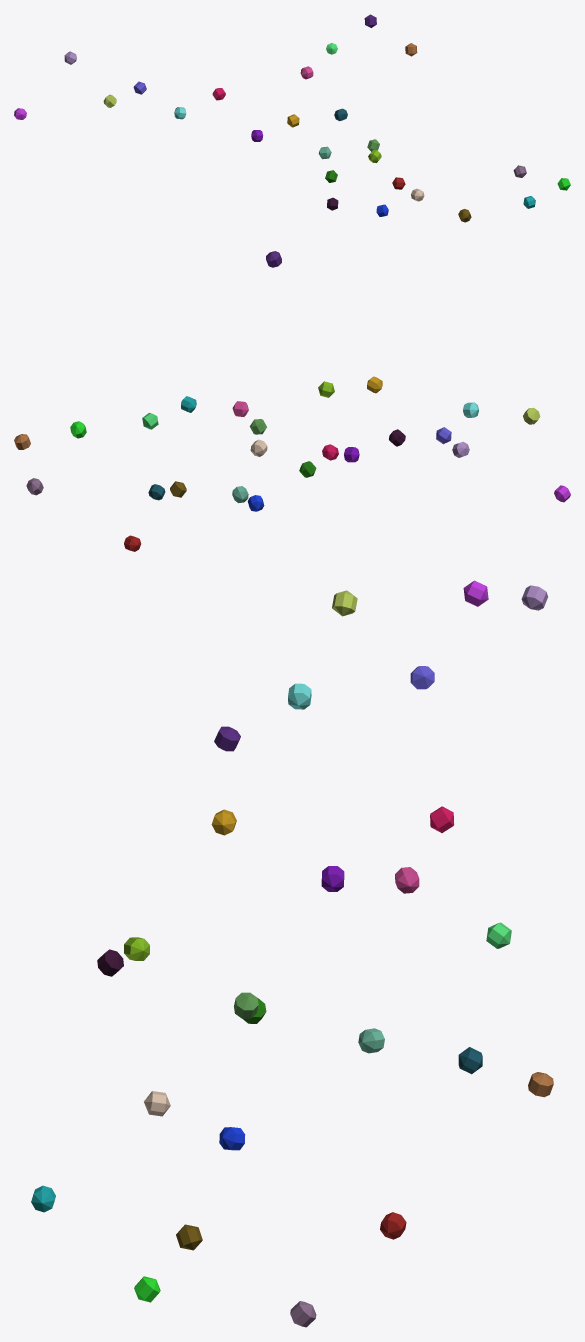
The model's file is fg-00010-bone.obj.
The picture shows the model from 3 angles, top to bottom: view 1: azimuth 30°, elevation 25°; view 2: azimuth 150°, elevation 25°; view 3: azimuth 270°, elevation 25°; orthographic projection. The views are drawn at different scales.
Size of the model in its own units: 0.3947 by 0.1764 by 0.189.
